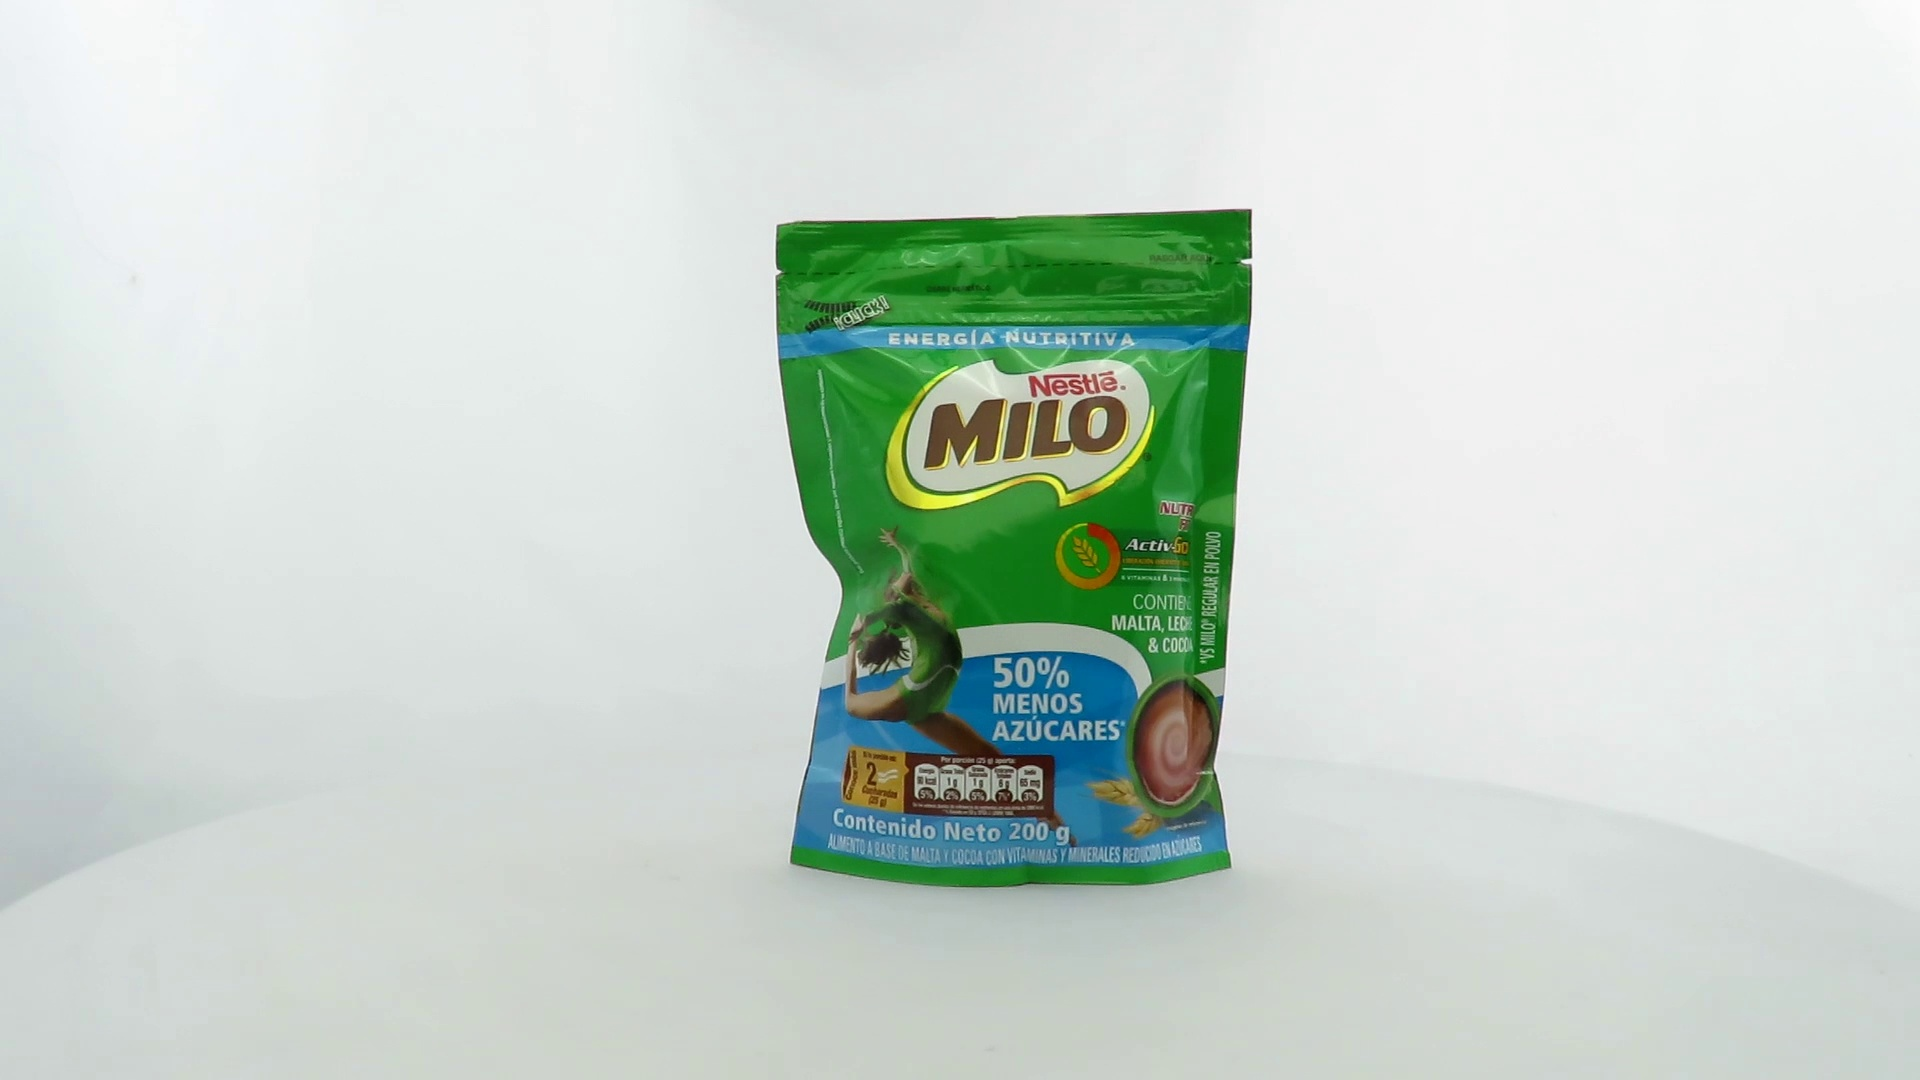COL0170205DYP20000: (770, 204, 1259, 894)
